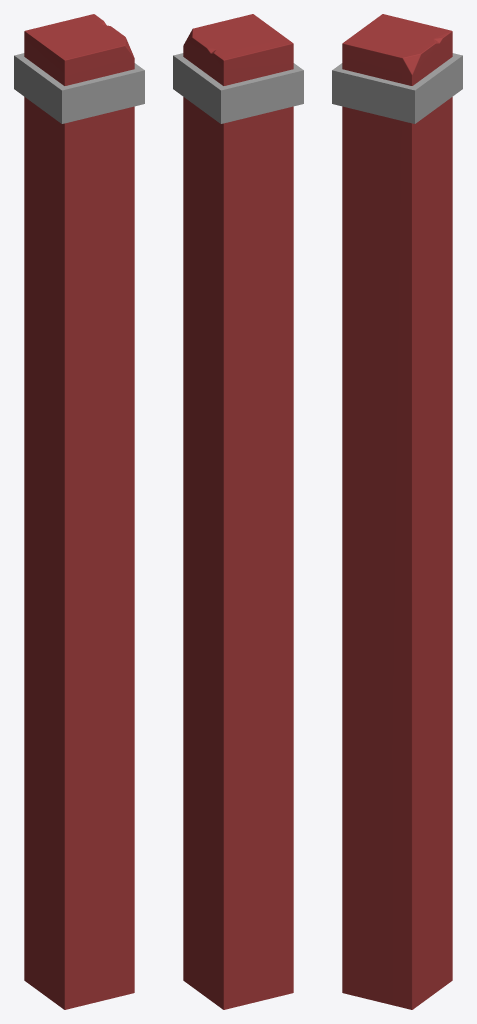
The model's file is PlatformTestLP.fbx.
The picture shows the model from 3 angles, left to right: view 1: azimuth 30°, elevation 25°; view 2: azimuth 210°, elevation 25°; view 3: azimuth 330°, elevation 25°; orthographic projection.
Visible parts, largest first — view 1: Platform_Base, Platform_Emissive; view 2: Platform_Base, Platform_Emissive; view 3: Platform_Base, Platform_Emissive.
Boxes of the visible parts, <box> form: Platform_Base: <box>24,14,134,1009</box>; Platform_Emissive: <box>14,53,144,123</box>; Platform_Base: <box>183,14,293,1009</box>; Platform_Emissive: <box>173,53,303,123</box>; Platform_Base: <box>342,14,452,1009</box>; Platform_Emissive: <box>332,53,462,123</box>.
Size of the model in its own units: 137 by 1500 by 137.
